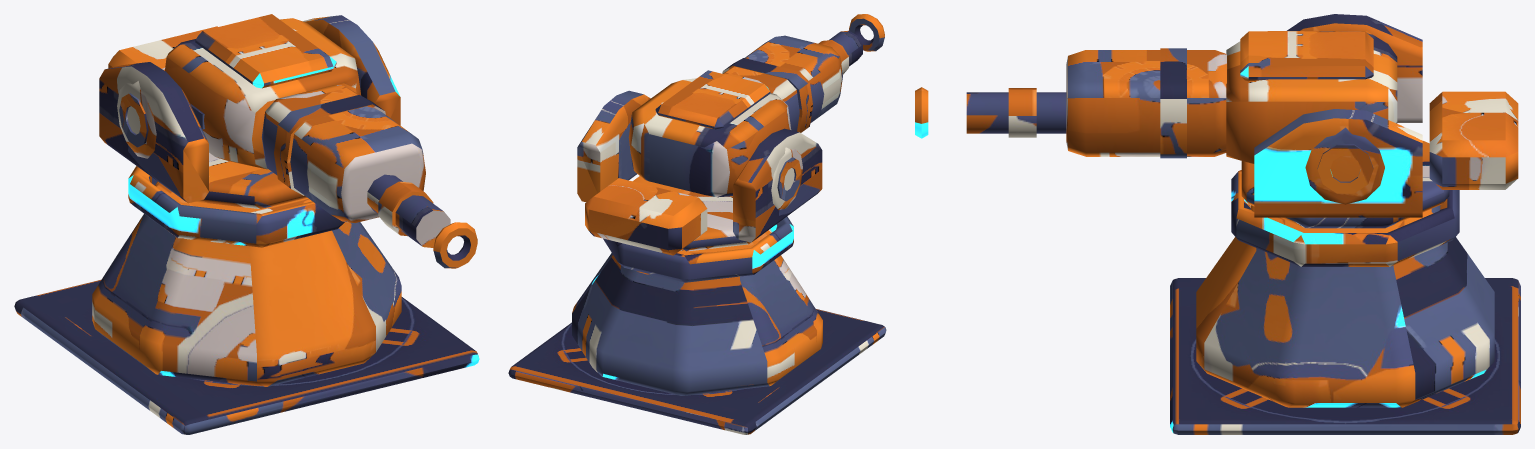
Rendered from R4W_Basic_LOD1.fbx.
3 renders of one model, left to right at view 1: azimuth 30°, elevation 25°; view 2: azimuth 150°, elevation 25°; view 3: azimuth 270°, elevation 25°, orthographic. The views are drawn at different scales.
Visible parts, largest first — view 1: R4W_Basic_LOD1; view 2: R4W_Basic_LOD1; view 3: R4W_Basic_LOD1.
Part boxes in pixels (bbox=[...]): R4W_Basic_LOD1: bbox=[14, 14, 479, 434]; R4W_Basic_LOD1: bbox=[508, 14, 886, 434]; R4W_Basic_LOD1: bbox=[915, 14, 1520, 434].
Bounding box in the file's own units: 0.5 × 0.496 × 0.8635.
